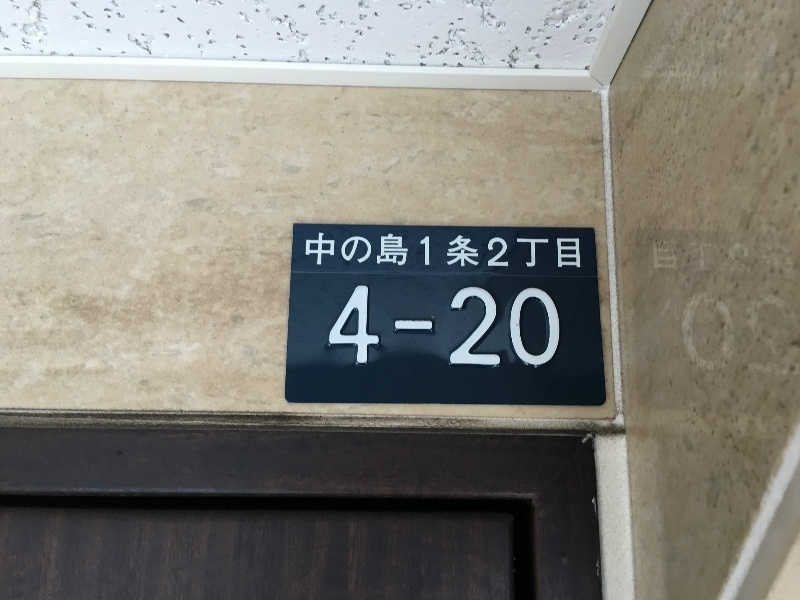text: (689, 287, 704, 386), (705, 287, 720, 386), (721, 287, 736, 386), (737, 287, 752, 386), (753, 287, 768, 386), (769, 287, 784, 386), (337, 284, 352, 371), (353, 284, 368, 371), (369, 284, 384, 371), (385, 284, 400, 371), (401, 284, 416, 371), (417, 284, 432, 371), (433, 284, 448, 371), (449, 284, 464, 371), (465, 284, 480, 371), (481, 284, 496, 371), (497, 284, 512, 371), (513, 284, 528, 371), (529, 284, 544, 371), (545, 284, 560, 371), (785, 287, 795, 386), (321, 232, 336, 272), (337, 232, 352, 272), (353, 232, 368, 272), (369, 232, 384, 272), (385, 232, 400, 272), (401, 232, 416, 272), (417, 232, 432, 272), (433, 232, 448, 272), (449, 232, 464, 272), (465, 232, 480, 272), (481, 232, 496, 272), (497, 232, 512, 272), (513, 232, 528, 272), (529, 232, 544, 272), (545, 232, 560, 272), (561, 232, 576, 272), (657, 238, 672, 278), (673, 238, 688, 278), (689, 238, 704, 278), (705, 238, 720, 278), (721, 238, 736, 278), (737, 238, 752, 278), (753, 238, 768, 278), (769, 238, 784, 278), (306, 232, 320, 272), (683, 287, 688, 386), (785, 238, 795, 278), (577, 232, 584, 272), (334, 284, 336, 371), (652, 238, 656, 278), (561, 284, 562, 371)
